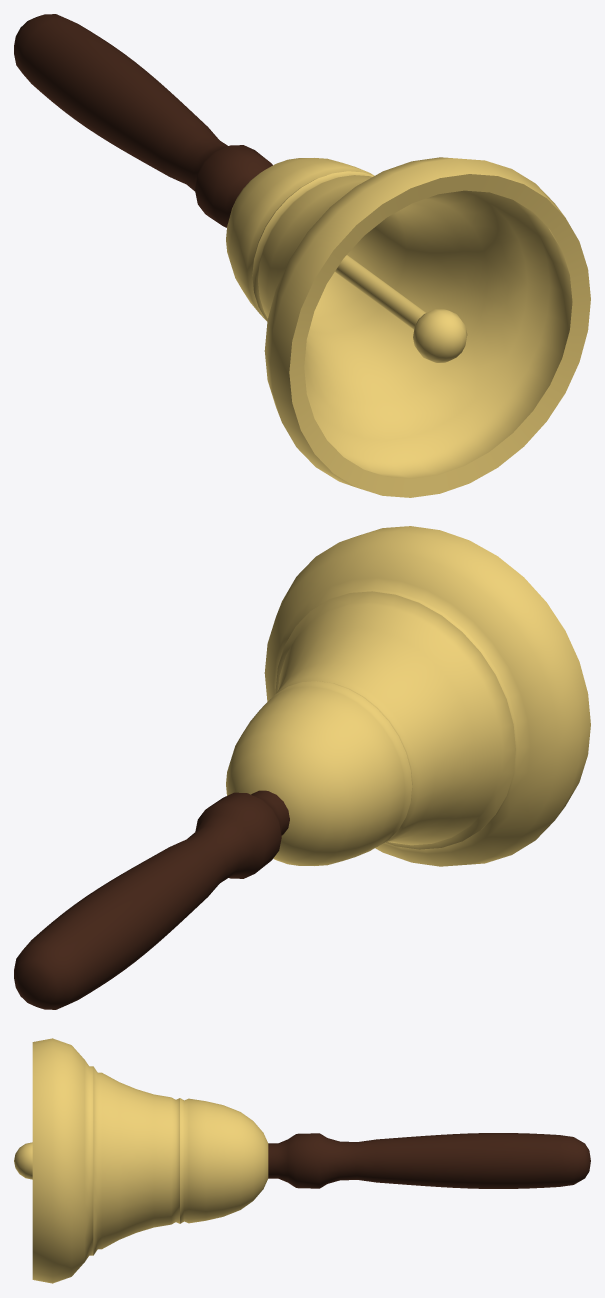
The model's file is handbell.002.dae.
The picture shows the model from 3 angles, top to bottom: view 1: azimuth 30°, elevation 25°; view 2: azimuth 150°, elevation 25°; view 3: azimuth 270°, elevation 25°; orthographic projection. The views are drawn at different scales.
Visible parts, largest first — view 1: Circle, Circle.001; view 2: Circle; view 3: Circle, Circle.001.
Boxes of the visible parts, x1,y1,x2,y2 form: Circle: [14, 14, 590, 497]; Circle.001: [335, 255, 467, 362]; Circle: [14, 526, 590, 1009]; Circle: [32, 1038, 590, 1283]; Circle.001: [14, 1142, 32, 1179].
Bounding box in the file's own units: 3.66 × 8.61 × 3.66.
